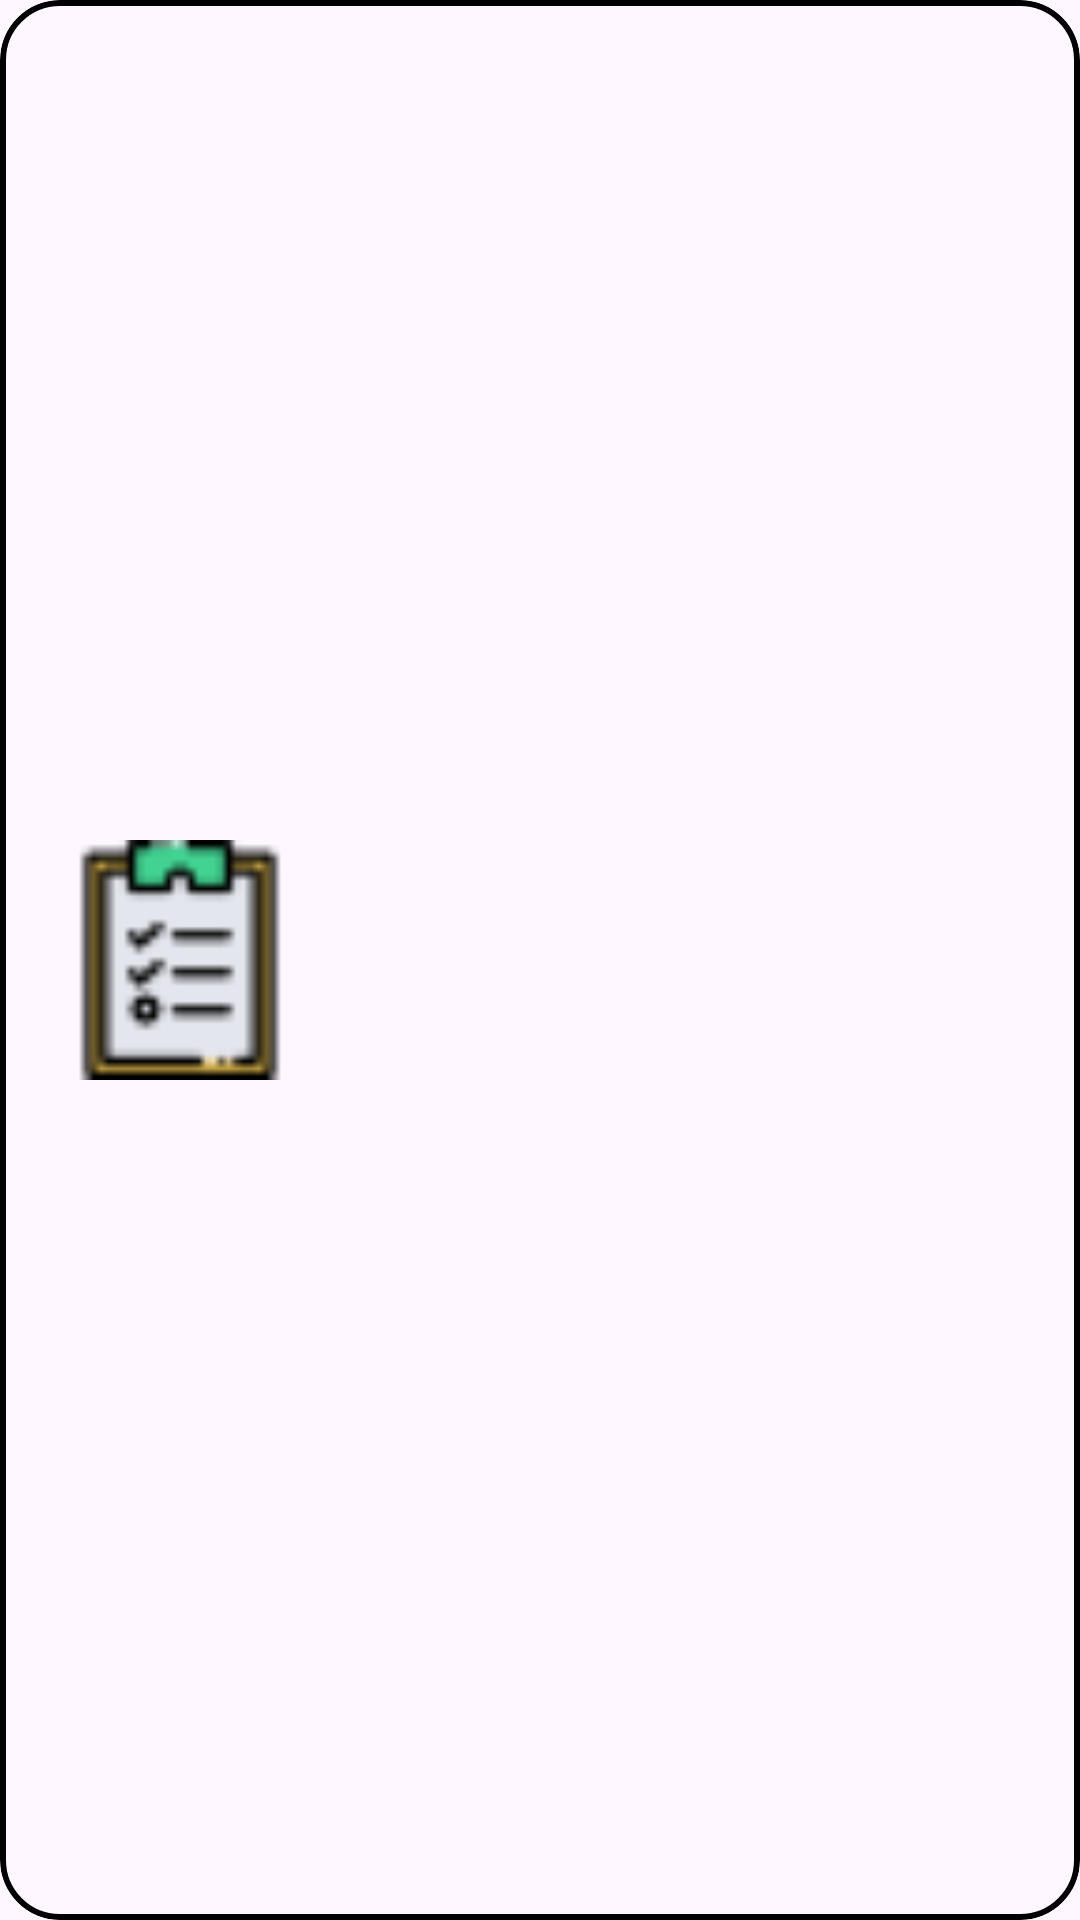

Icons on this 1080×1920 Android screen, each with its box as (x1, y1, x2, y2):
tarea: (80, 840, 280, 1080)
